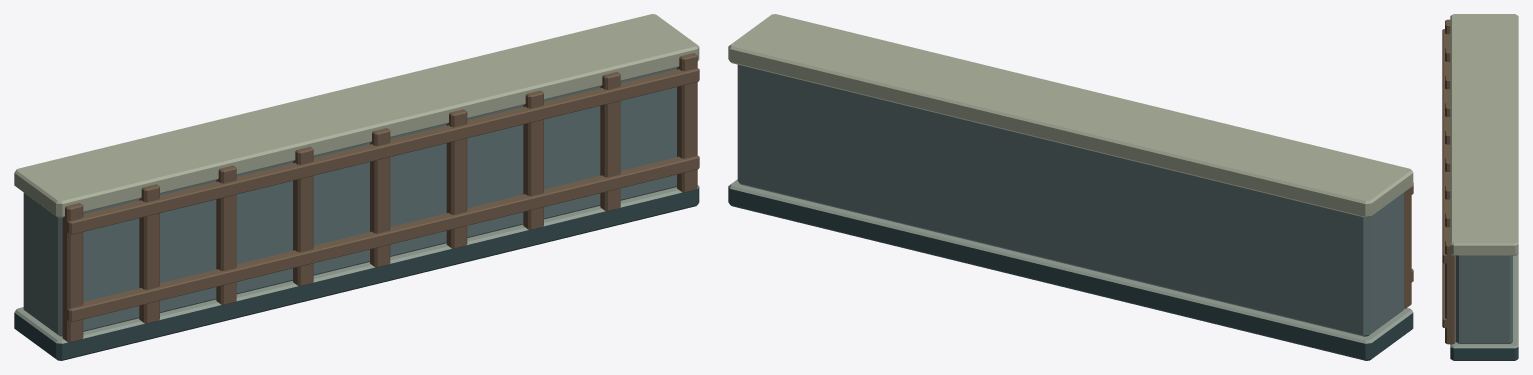
The model's file is wall-long.glb.
The picture shows the model from 3 angles, left to right: view 1: azimuth 30°, elevation 25°; view 2: azimuth 150°, elevation 25°; view 3: azimuth 270°, elevation 25°; orthographic projection. The views are drawn at different scales.
Parts seen in each view (by area): view 1: wall-long__body; view 2: wall-long__body; view 3: wall-long__body.
Part boxes in pixels (x1,y1,x2,y2): wall-long__body: (14,14,699,360); wall-long__body: (728,14,1413,360); wall-long__body: (1442,14,1518,360).
Size of the model in its own units: 4 by 0.95 by 0.5575.
